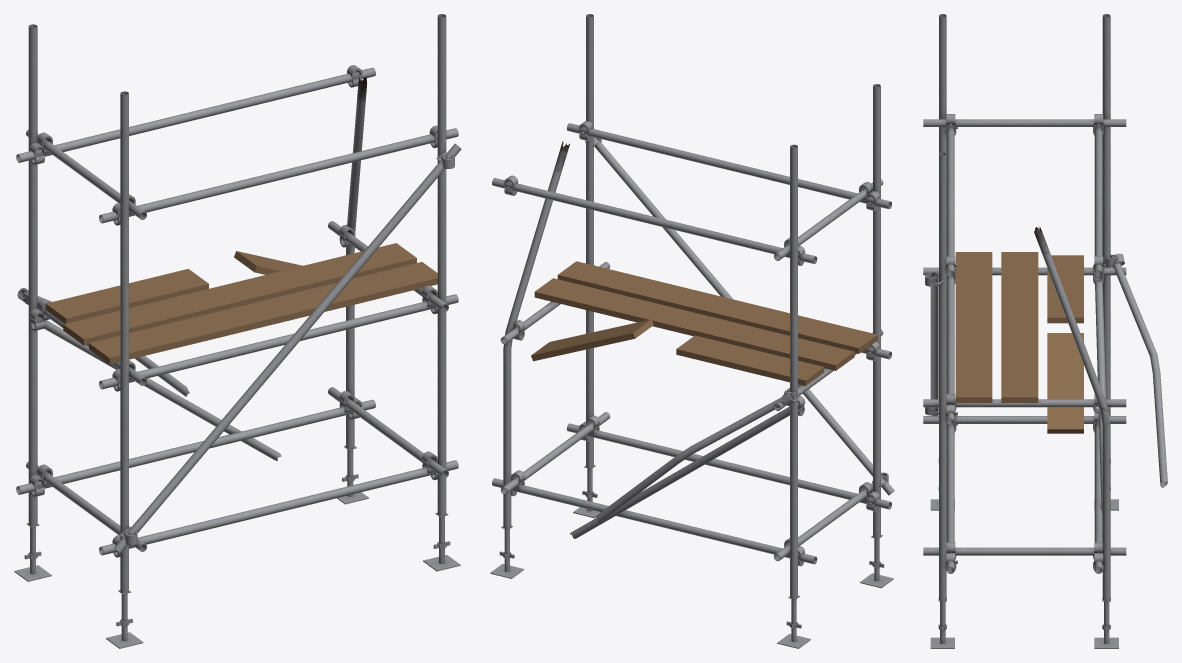
File: industrial_scaffold_section.glb
3 views of the same model, side by side, from view 1: azimuth 30°, elevation 25°; view 2: azimuth 150°, elevation 25°; view 3: azimuth 270°, elevation 25° (orthographic). The views are drawn at different scales.
Visible parts, largest first — view 1: industrial_scaffold_section_paint, industrial_scaffold_section_wood; view 2: industrial_scaffold_section_paint, industrial_scaffold_section_wood; view 3: industrial_scaffold_section_paint, industrial_scaffold_section_wood.
Boxes of the visible parts, bbox=[...] form: industrial_scaffold_section_paint: bbox=[14, 14, 461, 648]; industrial_scaffold_section_wood: bbox=[45, 243, 437, 364]; industrial_scaffold_section_paint: bbox=[490, 14, 894, 648]; industrial_scaffold_section_wood: bbox=[531, 261, 877, 386]; industrial_scaffold_section_paint: bbox=[923, 14, 1167, 648]; industrial_scaffold_section_wood: bbox=[955, 252, 1083, 433].
Bounding box in the file's own units: 2.24 × 3.3 × 1.49.
Materials: 2 (1 with a texture image).
